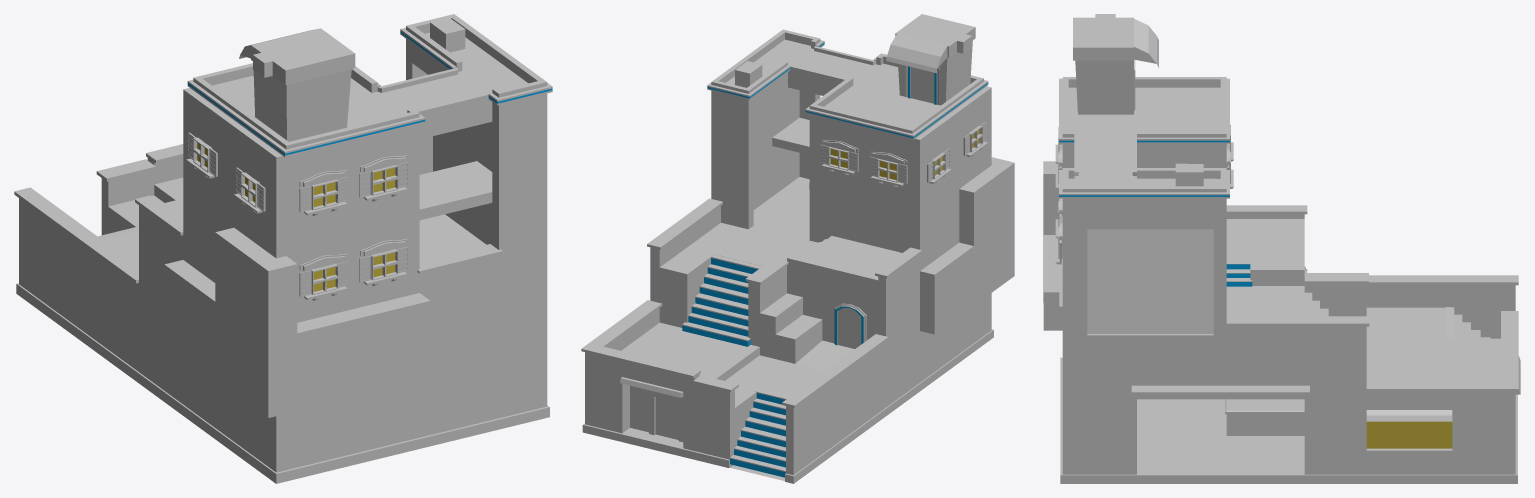
The model's file is Building_Apartment03.fbx.
3 renders of one model, left to right at view 1: azimuth 30°, elevation 25°; view 2: azimuth 150°, elevation 25°; view 3: azimuth 270°, elevation 25°, orthographic. The views are drawn at different scales.
Parts seen in each view (by area): view 1: Double House Platform 02; view 2: Double House Platform 02; view 3: Double House Platform 02.
Part boxes in pixels (left/top/right/bottom): Double House Platform 02: left=14, top=14, right=552, bottom=483; Double House Platform 02: left=581, top=14, right=1014, bottom=483; Double House Platform 02: left=1043, top=14, right=1520, bottom=483.
Size of the model in its own units: 846 by 1070 by 1299.
